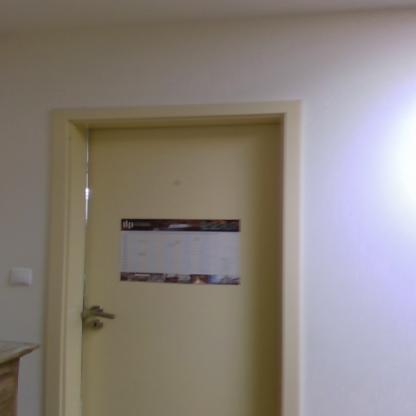door: (82, 130, 279, 415)
lever: (84, 309, 118, 321)
